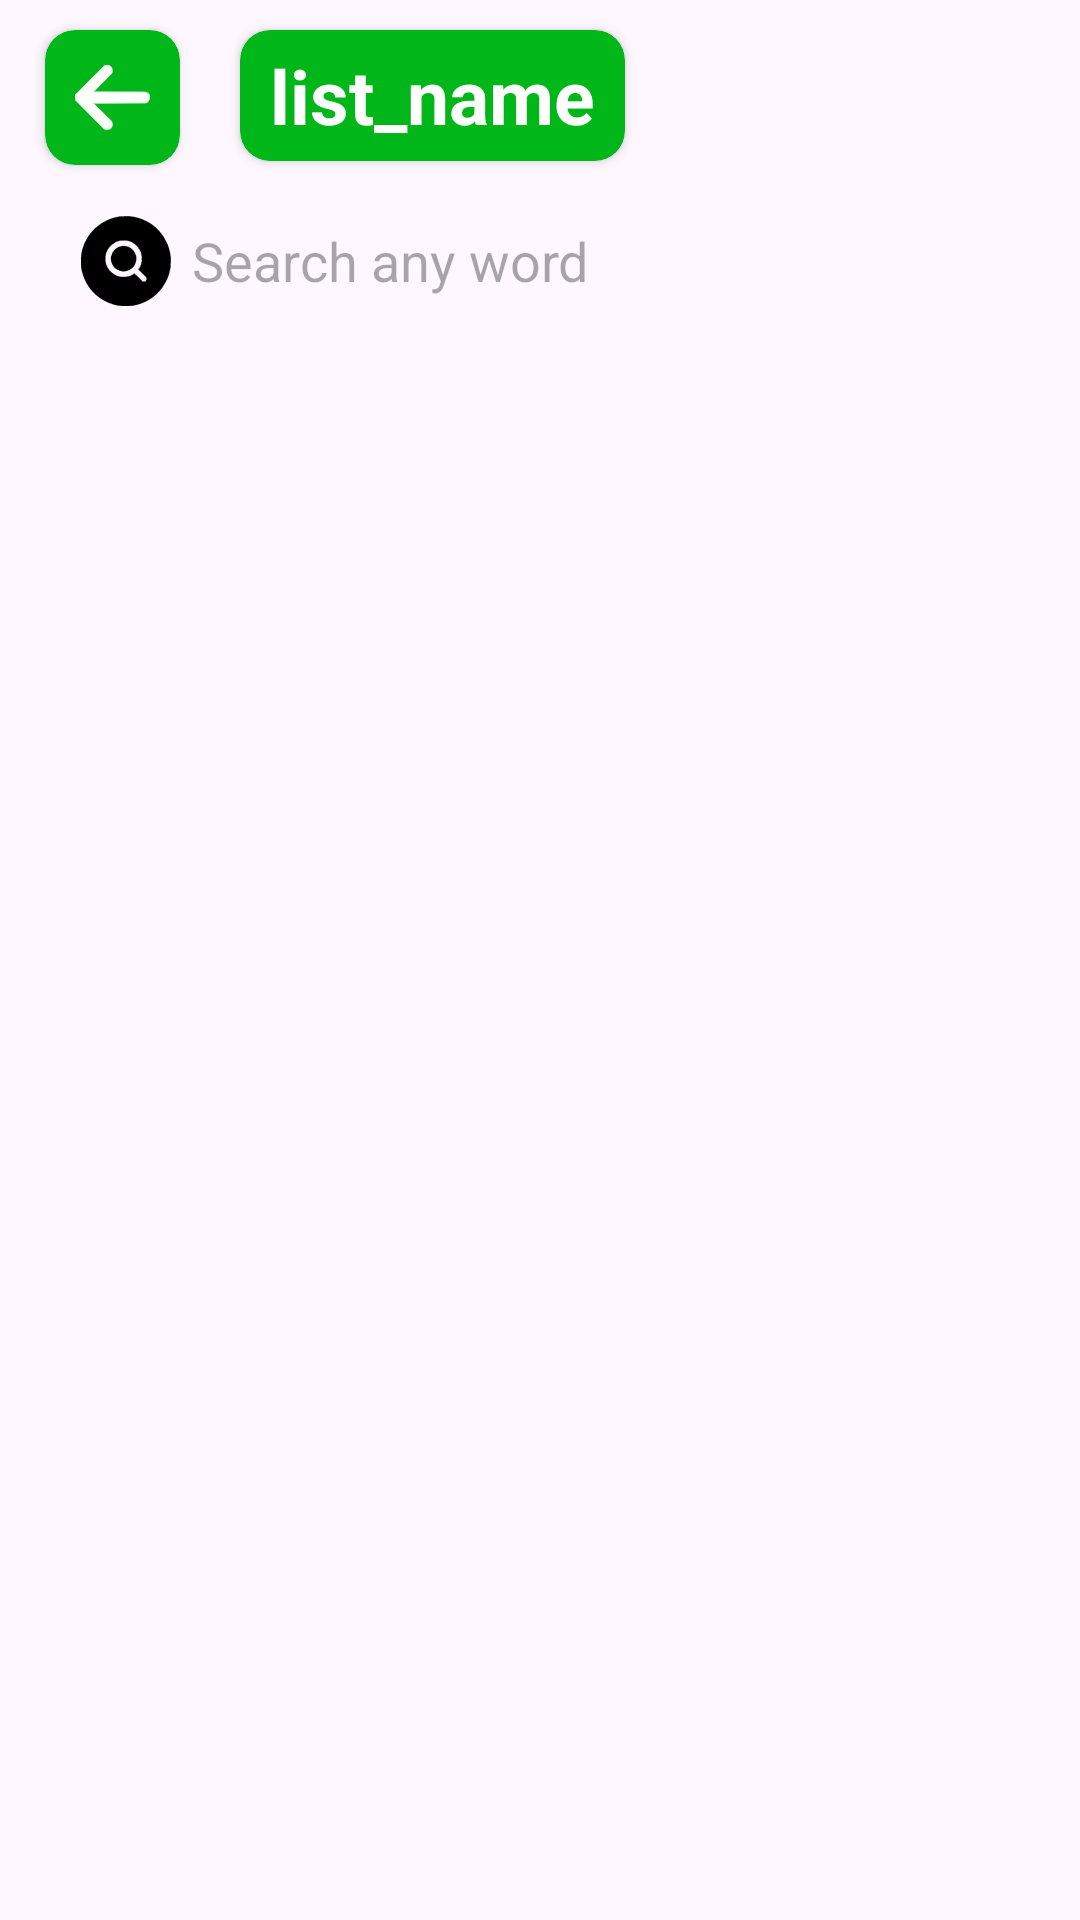

Icons on this 1080 × 1920 Android screen, each with its box as (x1, y1, x2, y2):
back: (75, 64, 150, 131)
